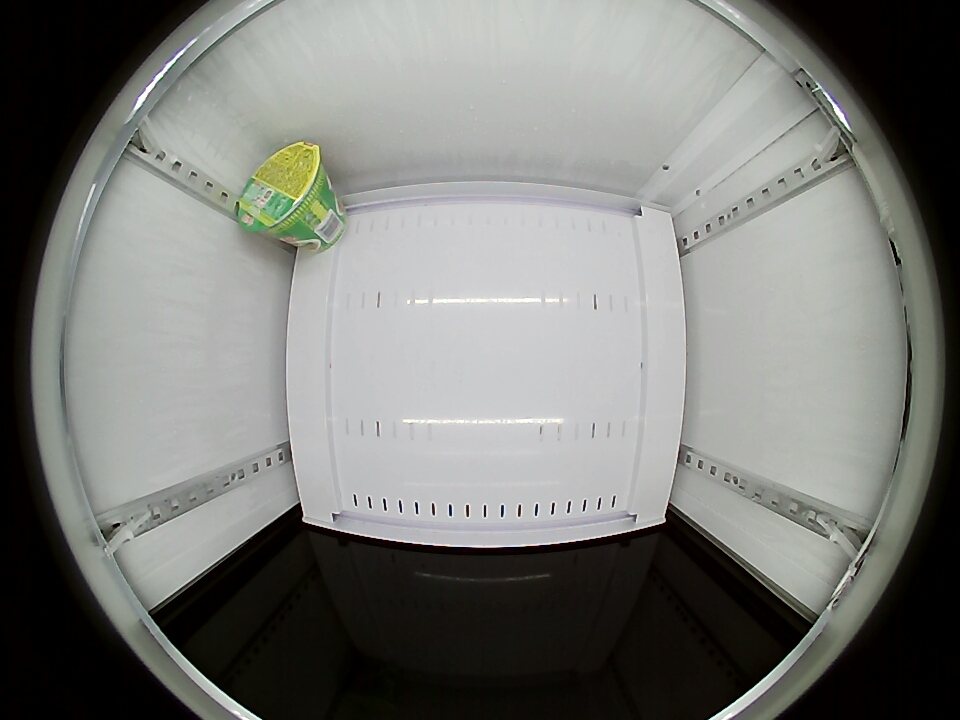heweidao2: (236, 141, 325, 236)
